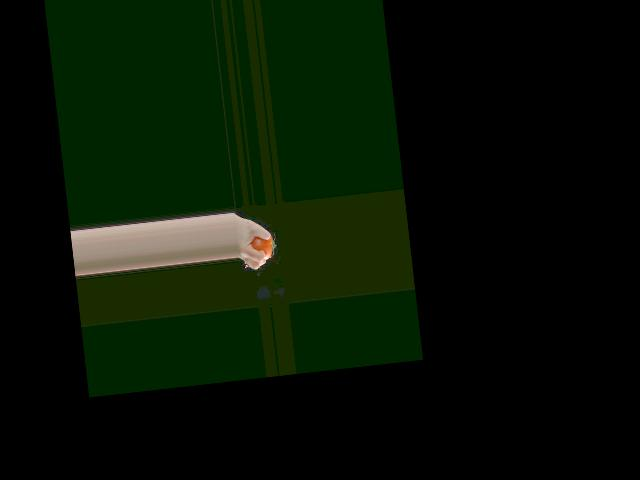tomato: (250, 234, 274, 260)
